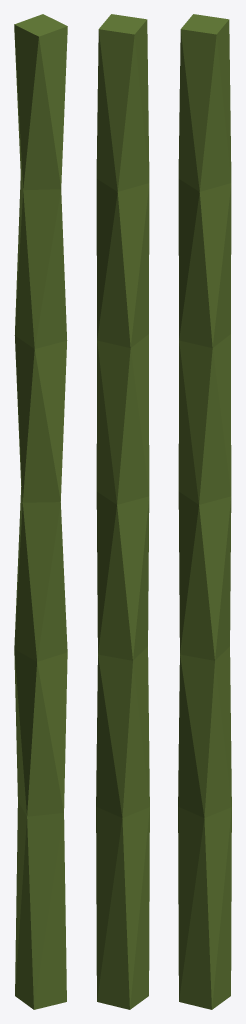
File: Seaweed_02.fbx
3 views of the same model, side by side, from view 1: azimuth 30°, elevation 25°; view 2: azimuth 150°, elevation 25°; view 3: azimuth 330°, elevation 25° (orthographic).
Visible parts, largest first — view 1: Seaweed_02; view 2: Seaweed_02; view 3: Seaweed_02.
Boxes of the visible parts, left/top/right/bottom form: Seaweed_02: left=14, top=14, right=67, bottom=1009; Seaweed_02: left=96, top=14, right=149, bottom=1009; Seaweed_02: left=178, top=14, right=231, bottom=1009.
Bounding box in the file's own units: 0.0448 × 0.9361 × 0.0448.
